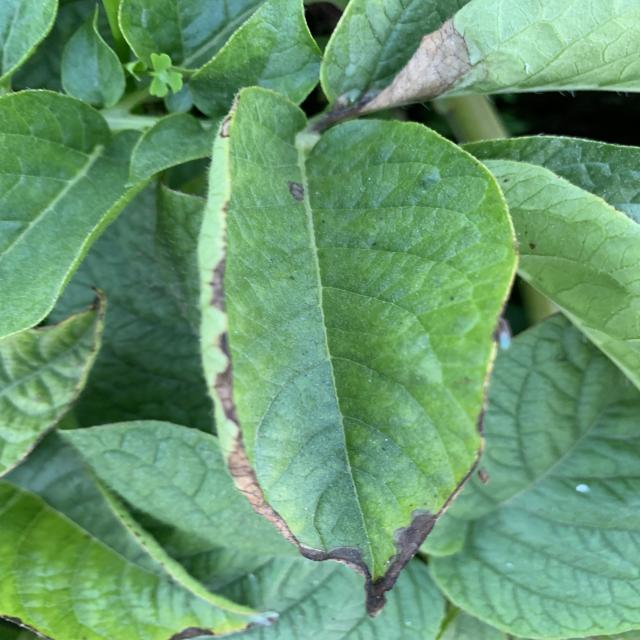lateblight: (203, 331, 307, 555), (298, 510, 438, 618), (358, 18, 472, 114)
